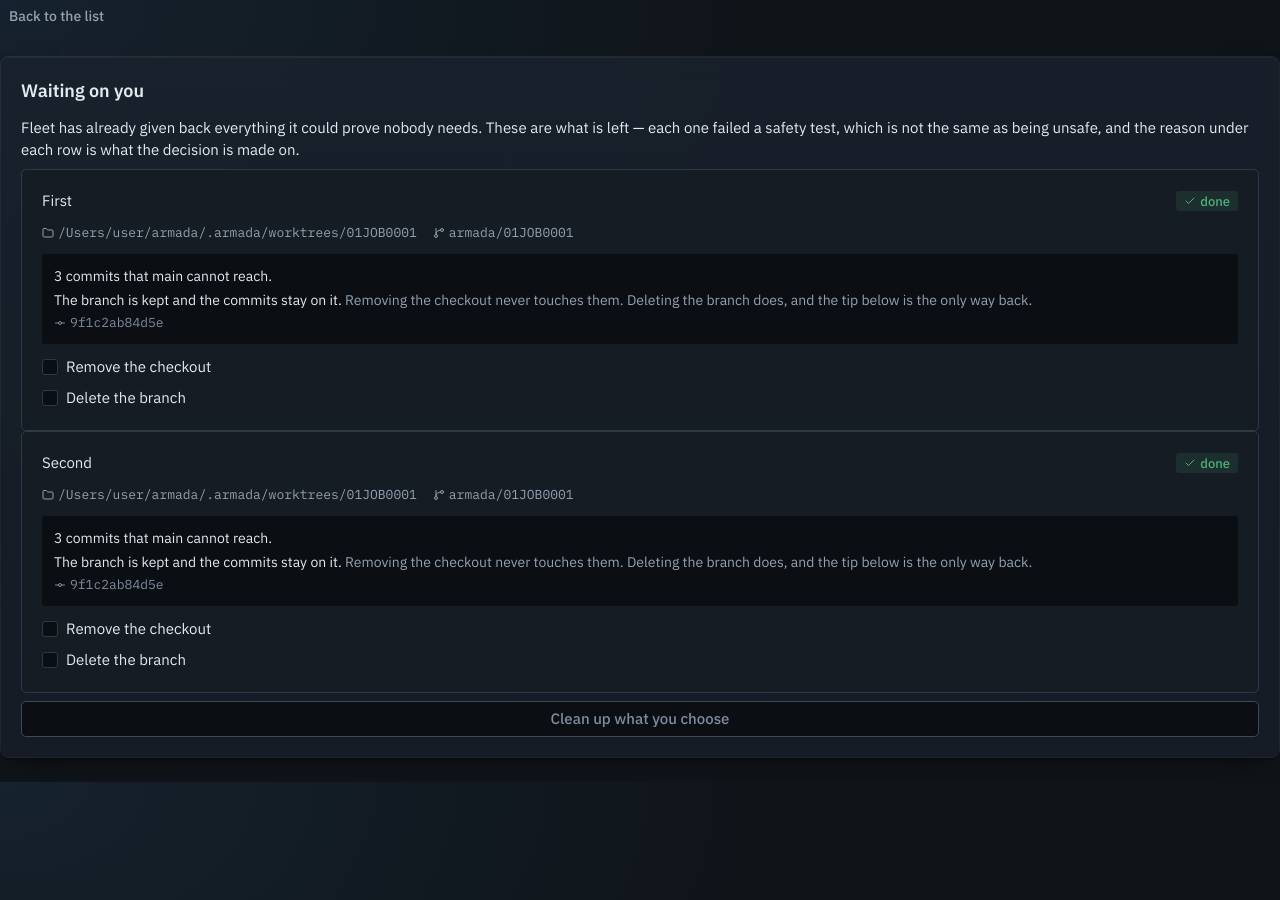
Scenario: a refusal on one job is named and the others still go
Click the checkbox labelled "Remove the checkout" below "First": x=127, y=367 [42, 356, 211, 378]
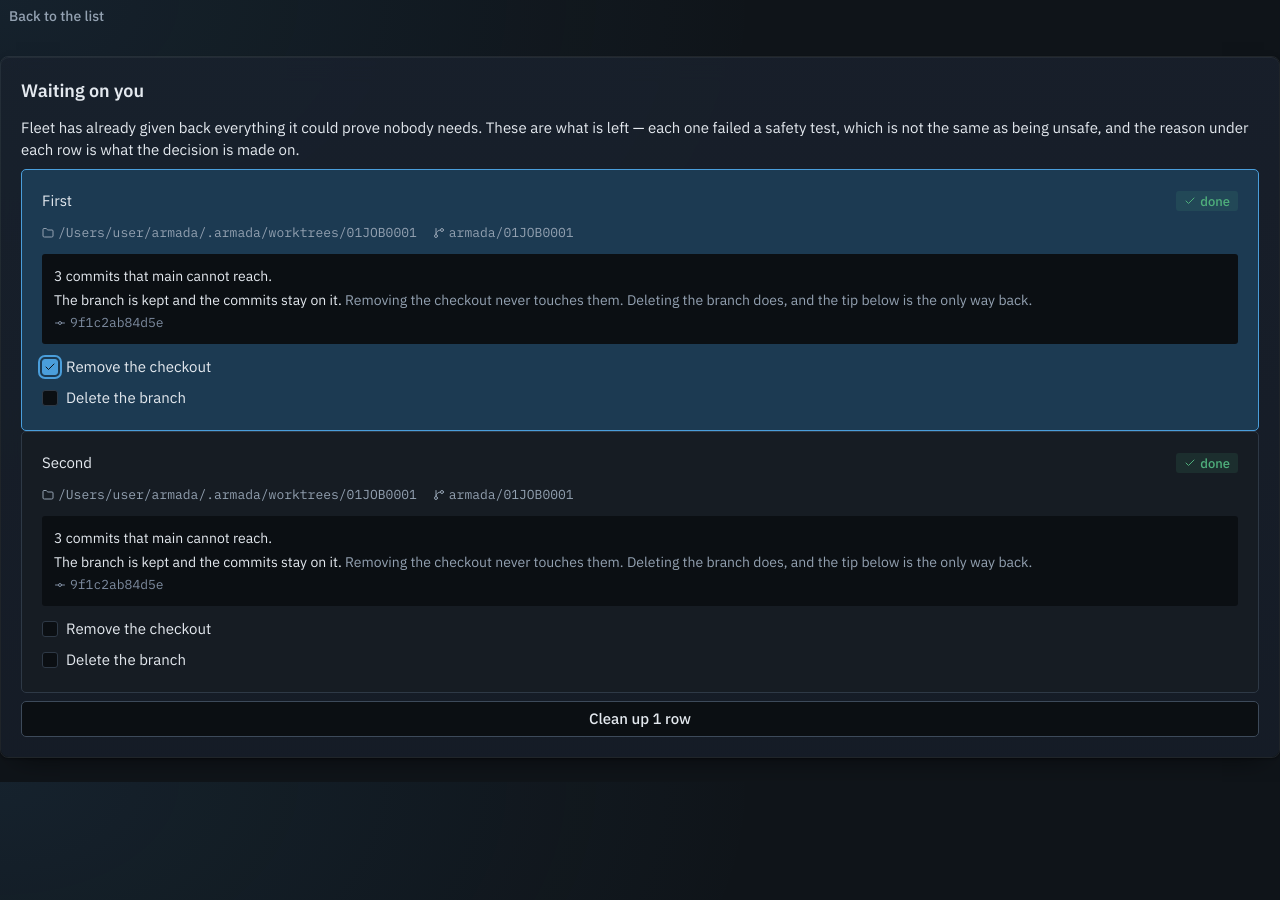
Click the checkbox labelled "Remove the checkout" below "Second": x=127, y=629 [42, 618, 211, 640]
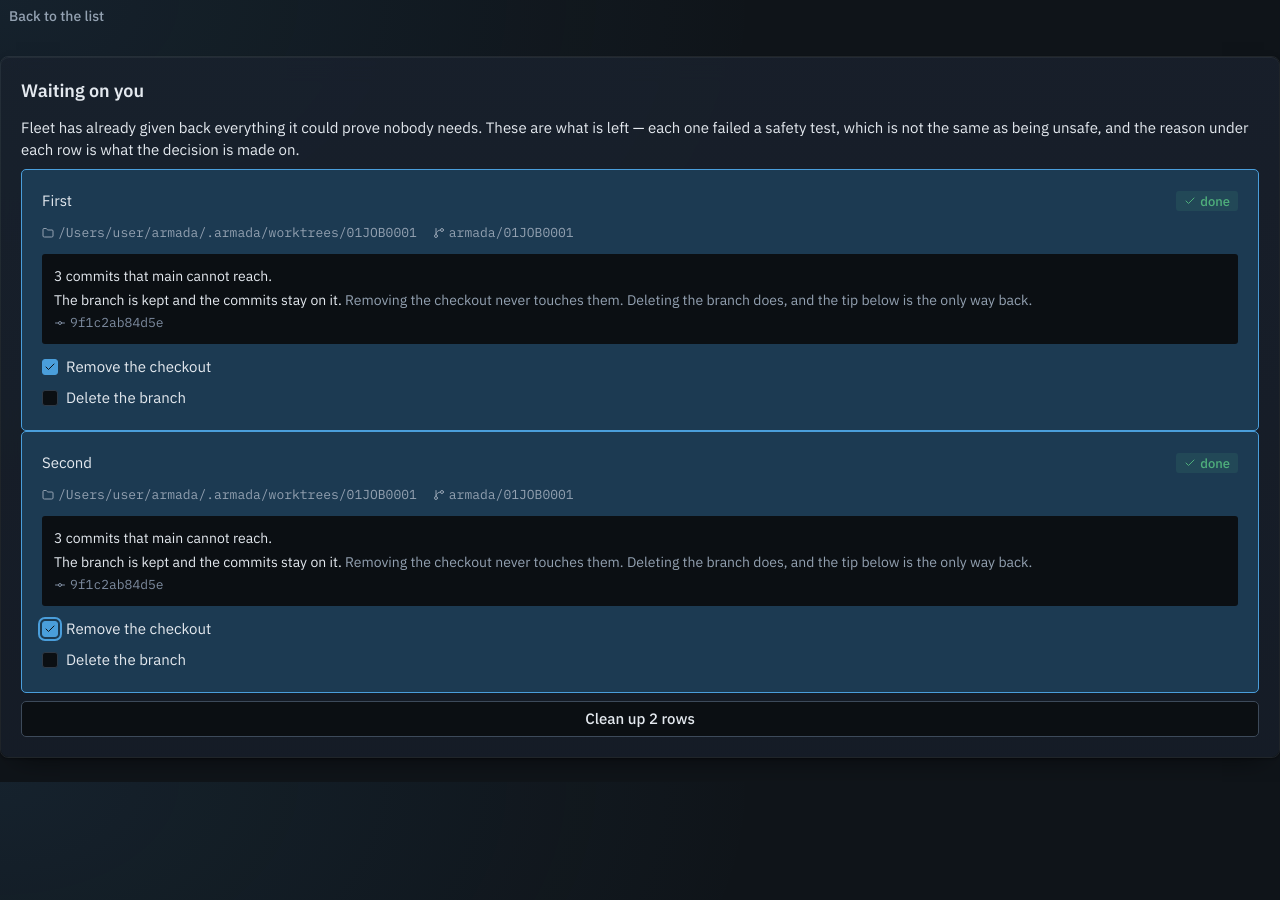
Click the button "Clean up 2 rows": x=640, y=719 [21, 701, 1259, 737]
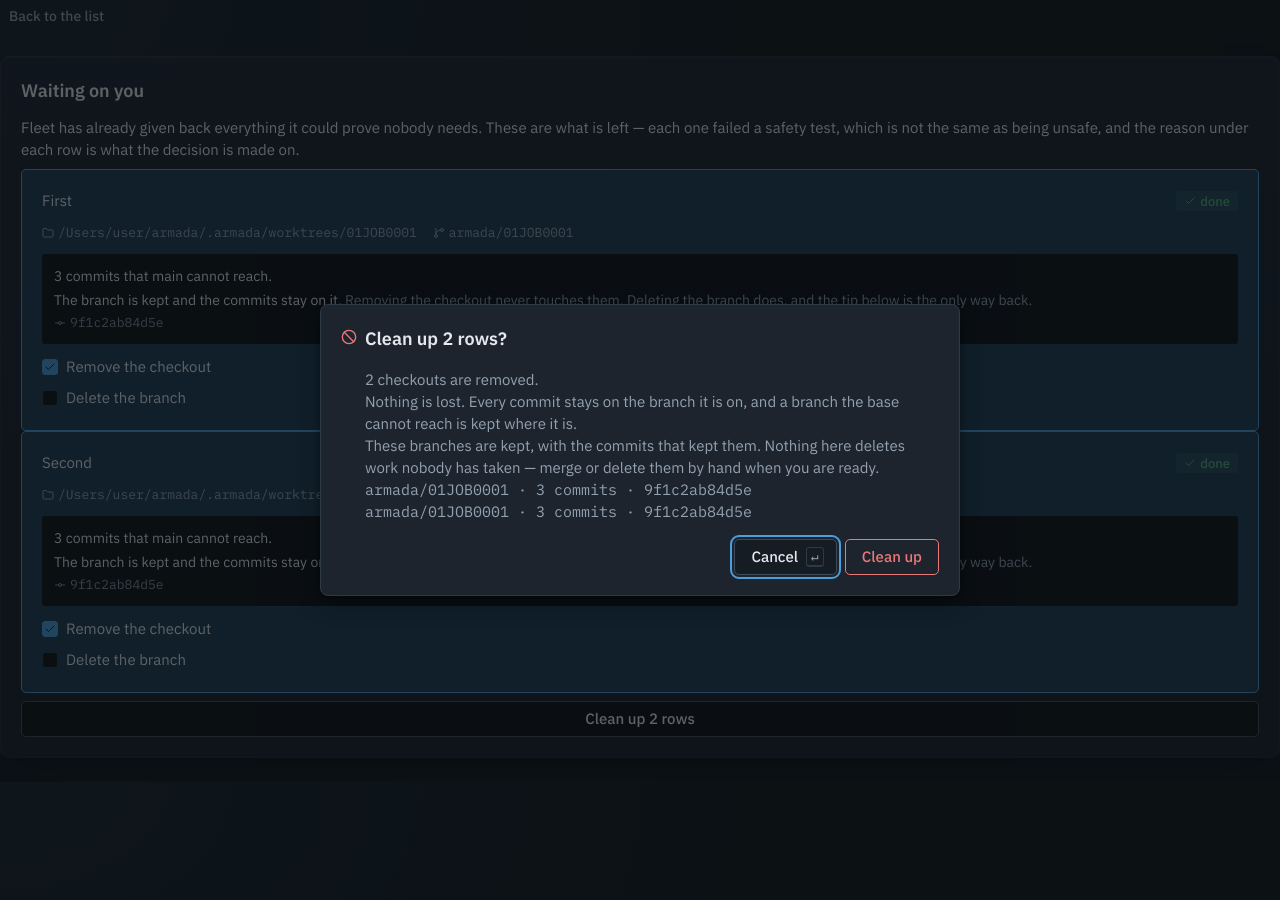
Click the button "Clean up": x=892, y=557 [845, 539, 939, 575]
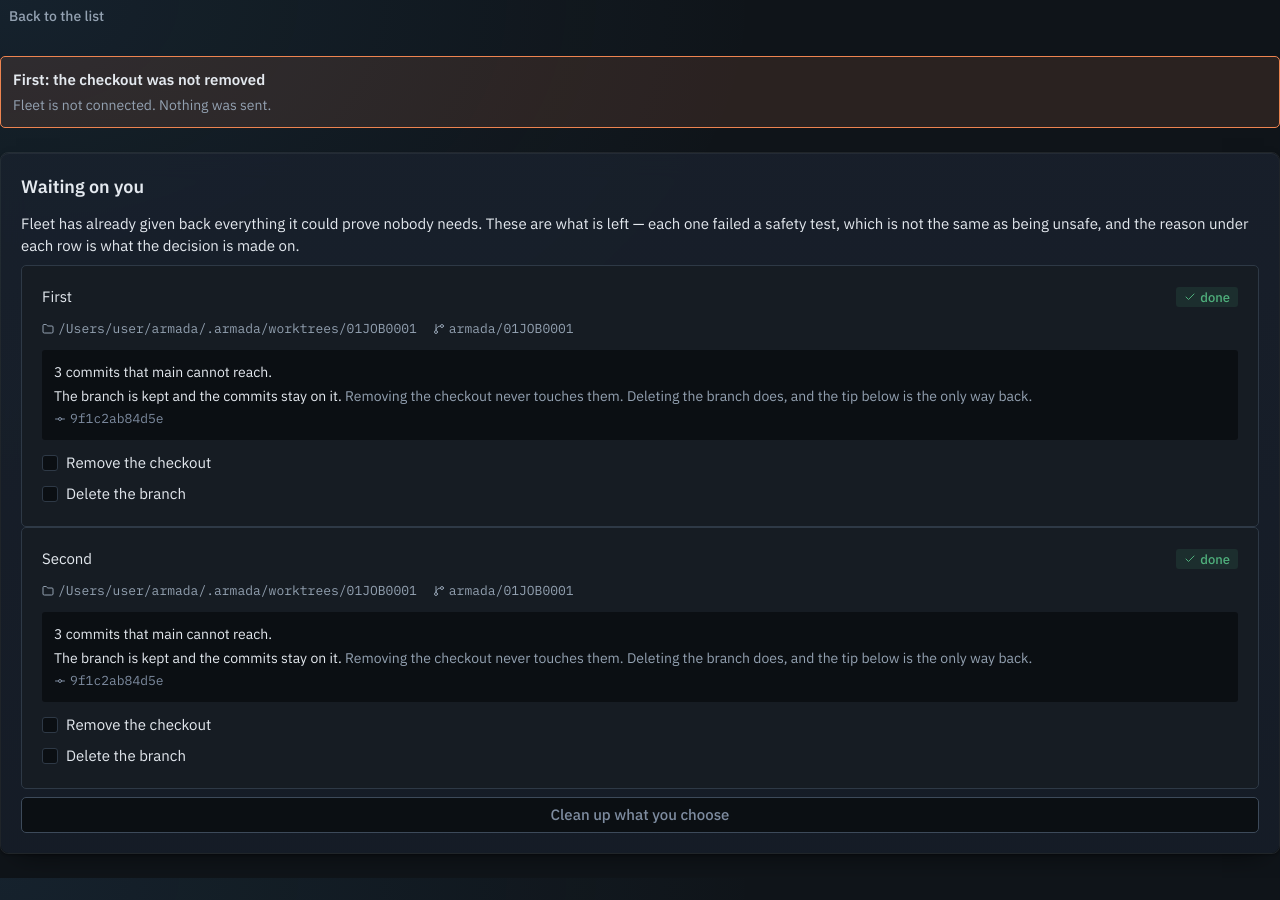
Result: the text "First: the checkout was not removed" is shown at [13, 70, 265, 89]
